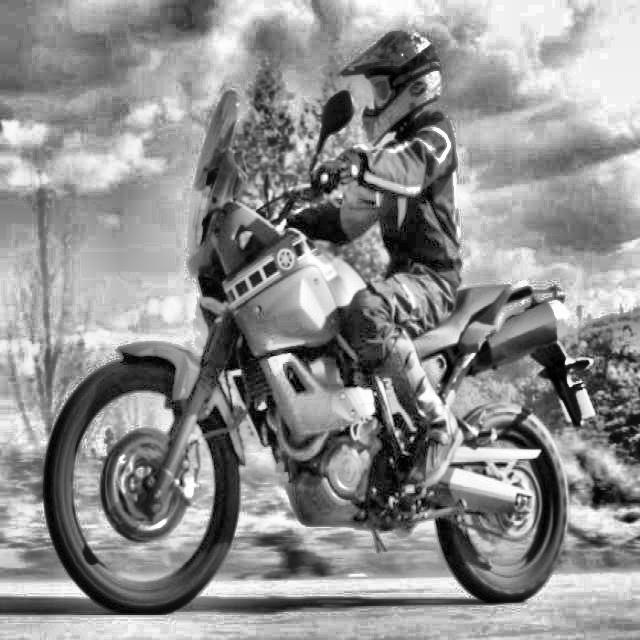Helmet: (336, 23, 446, 150)
